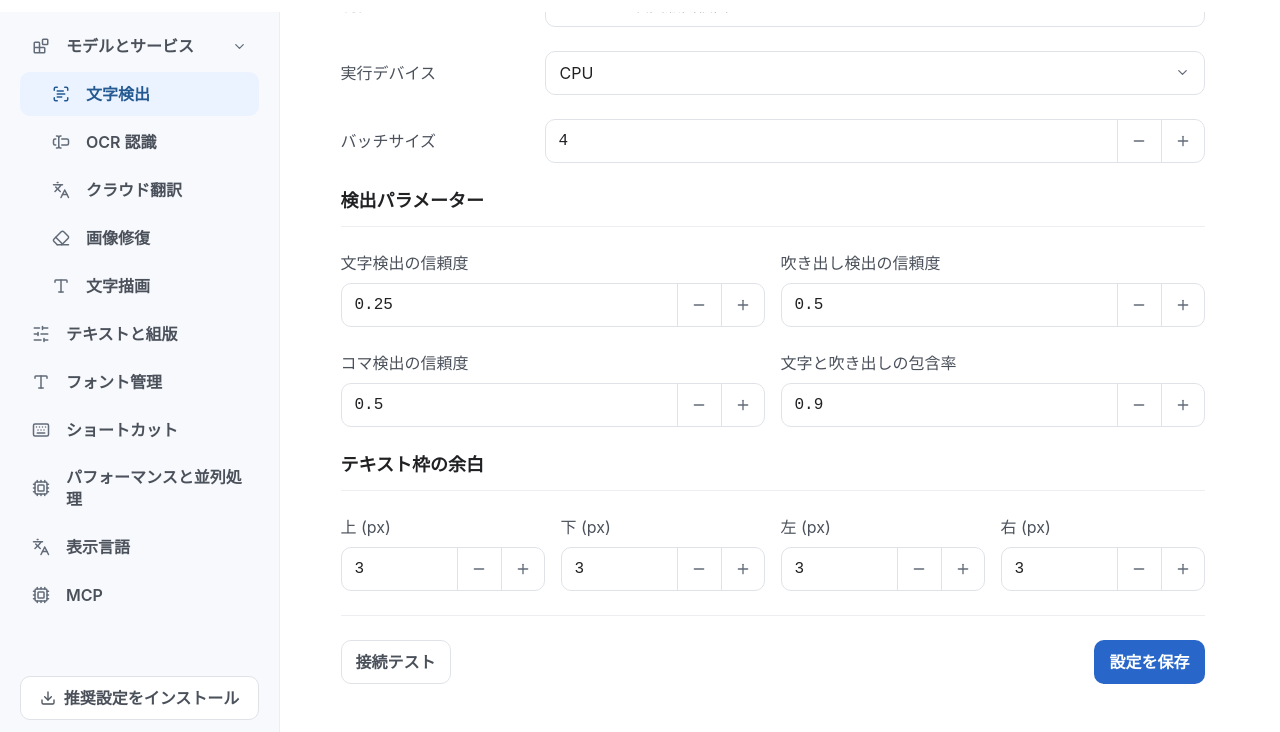
classification model form › shows a localized success toast after model settings are saved in ja
(page scrolled)
expect the field labelled "文字検出の信頼度" is shown: met, box [340, 283, 676, 327]
Click the button "設定を保存" at [1150, 662], box [1094, 640, 1204, 684]
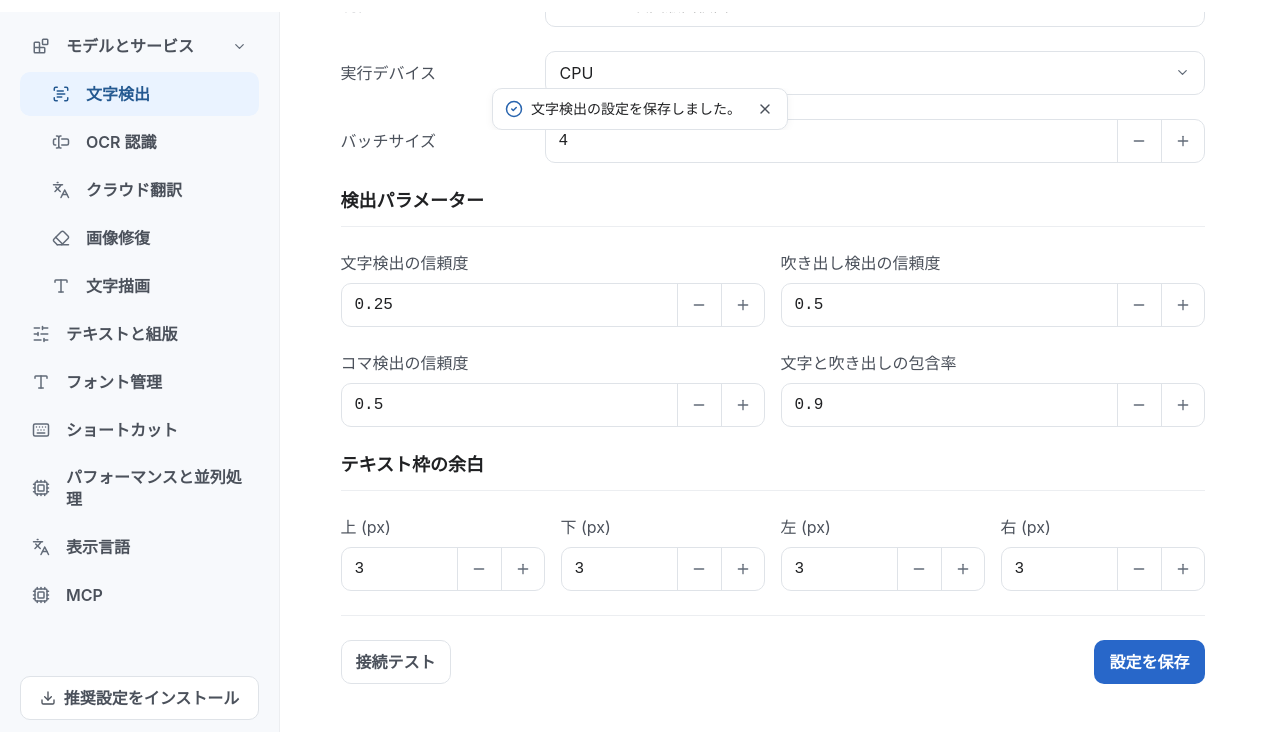
expect the number of messages "保存しました" is 1: met, box [492, 88, 788, 130]
Click the button named "通知を閉じる" at [765, 109], box [749, 93, 781, 125]
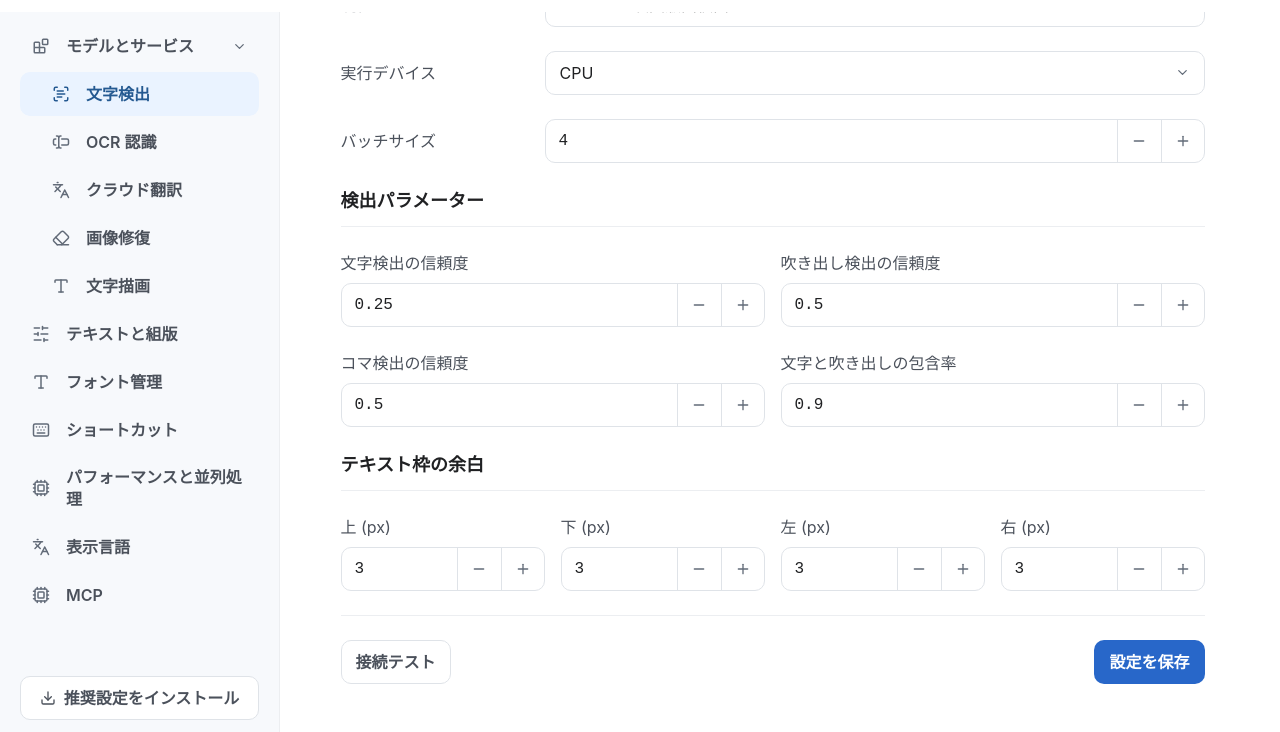
expect the button "設定を保存" is enabled: met, box [1094, 640, 1204, 684]
expect the text "保存しました" is gone: met
